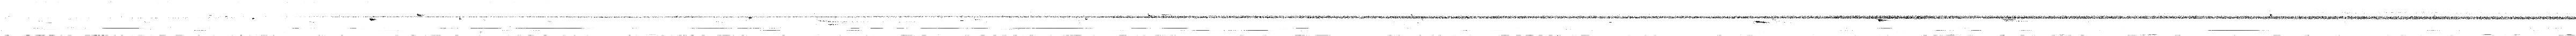meteor: (1755, 20, 1769, 23), (1878, 18, 1888, 21), (370, 18, 378, 21), (417, 13, 424, 16)
